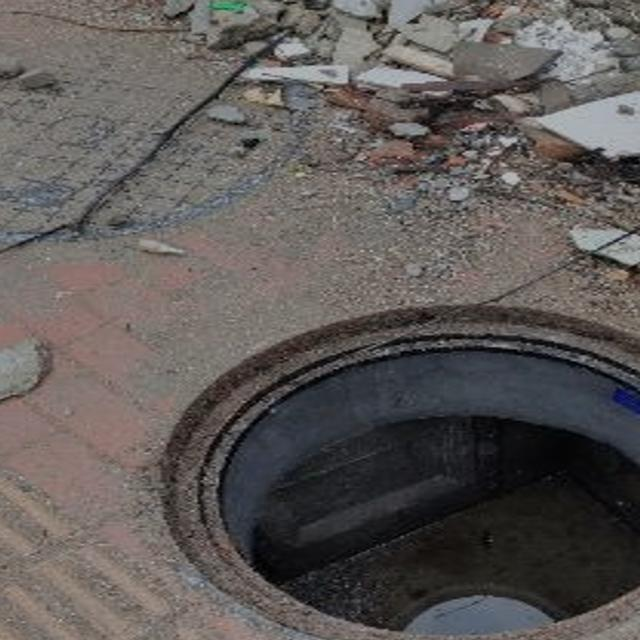lose: (163, 303, 640, 640)
